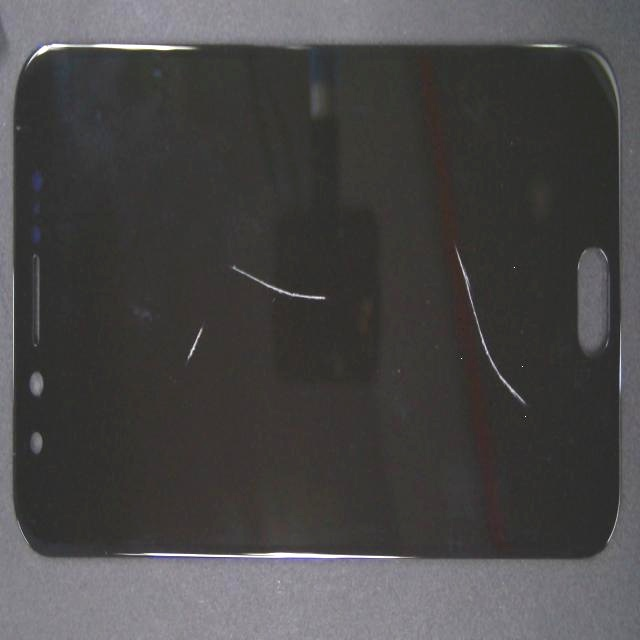scratch: (187, 53, 640, 487), (191, 145, 472, 428), (111, 167, 307, 477)
